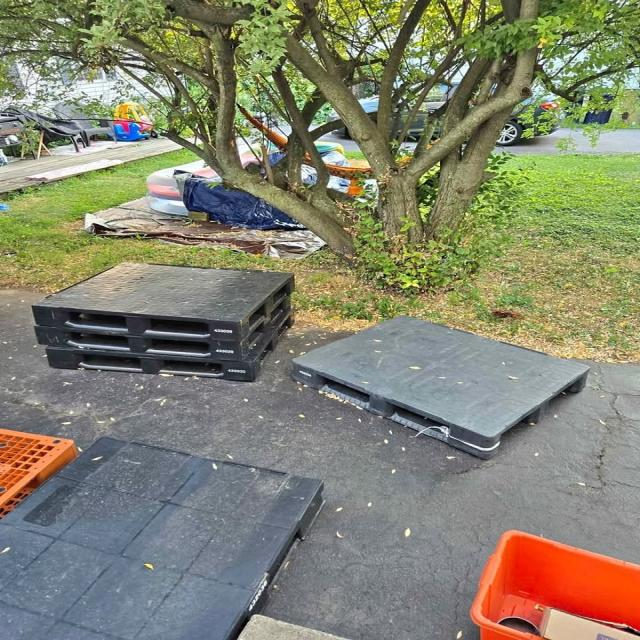non-igps: (286, 308, 593, 466), (26, 254, 300, 347), (40, 305, 305, 386), (28, 291, 298, 367)
